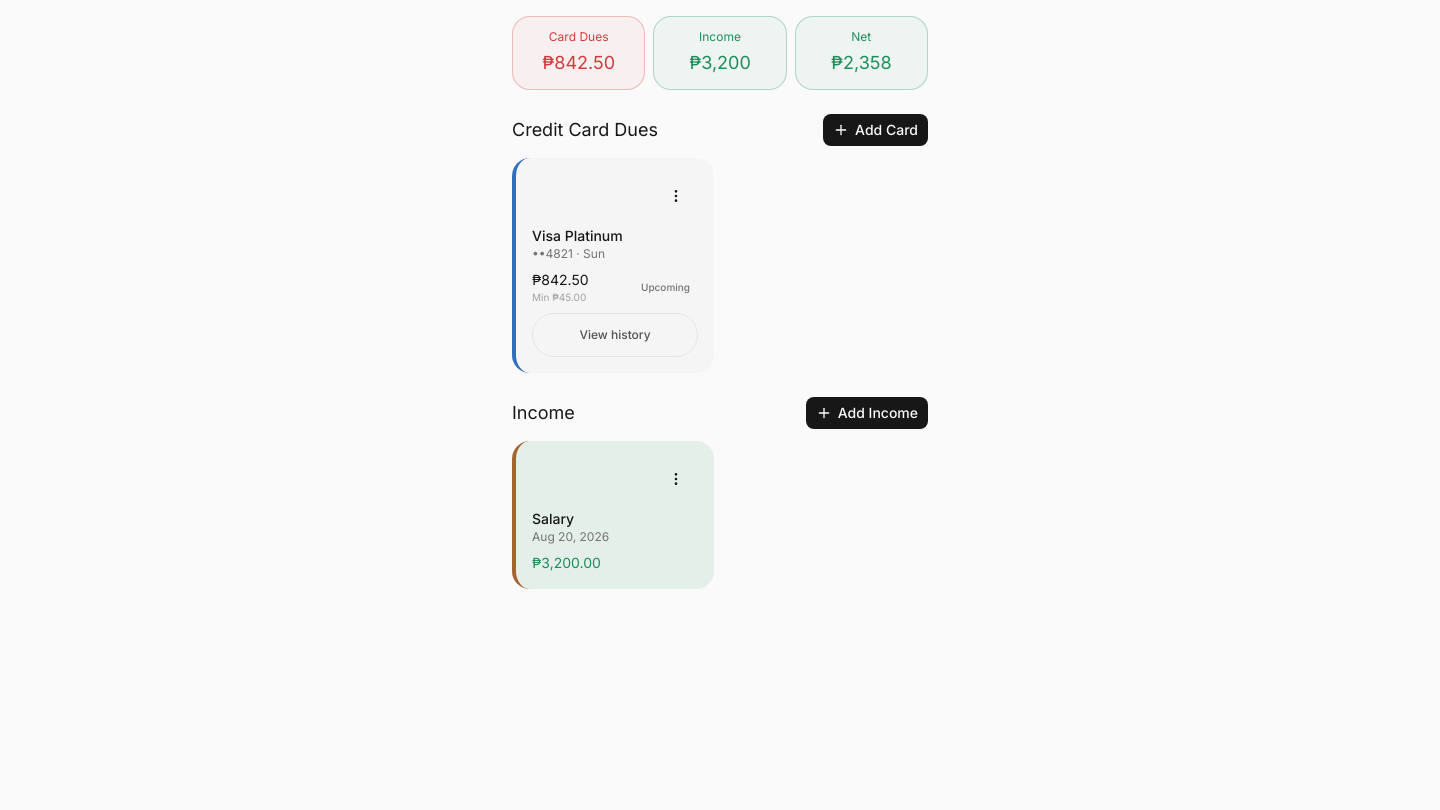
Test: AccountsPage › opens the edit form pre-filled when a card row Edit is chosen from its actions menu
Click the button named "actions for visa platinum": (676,196) [654, 174, 698, 218]
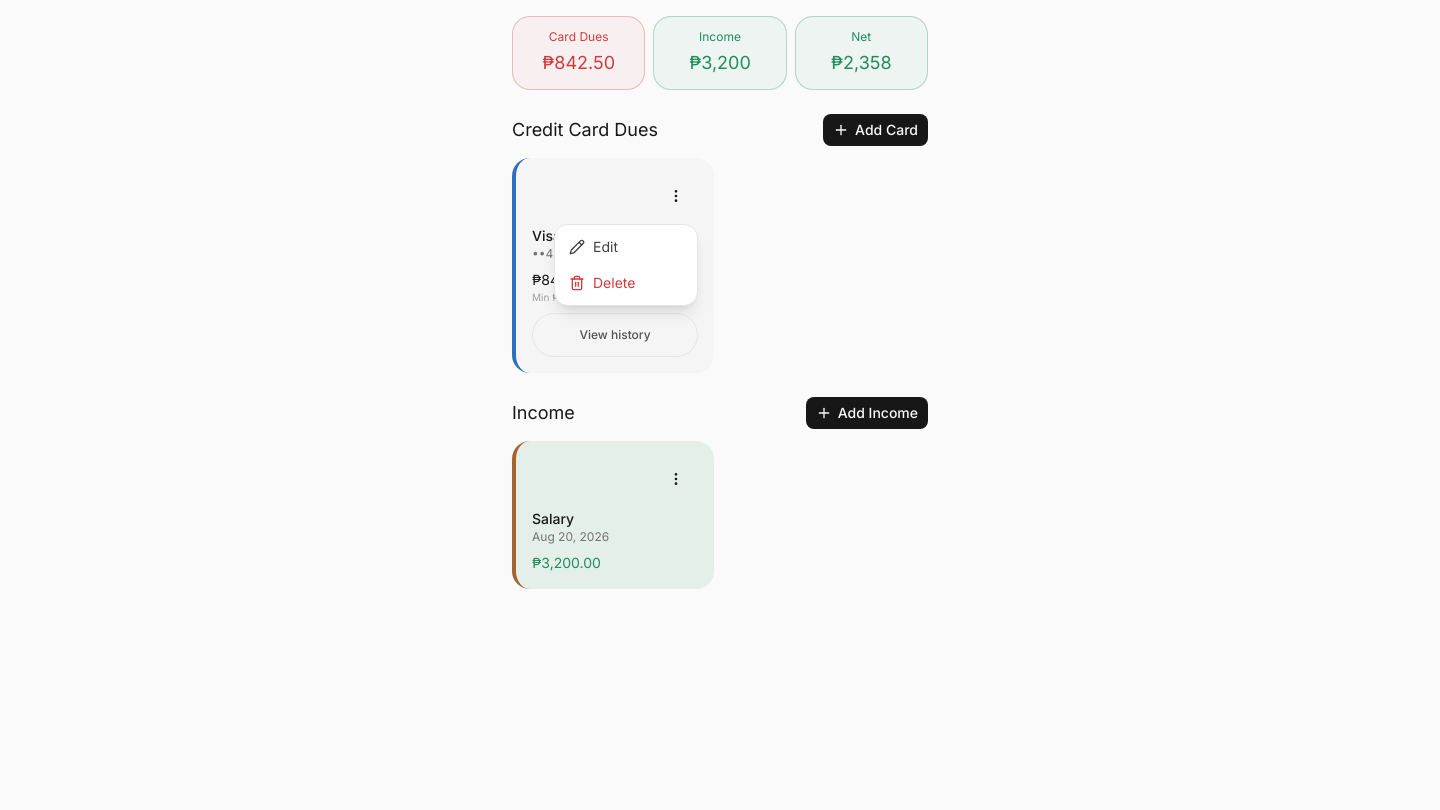
Click the menu item "Edit": (594,246) [569, 238, 618, 255]
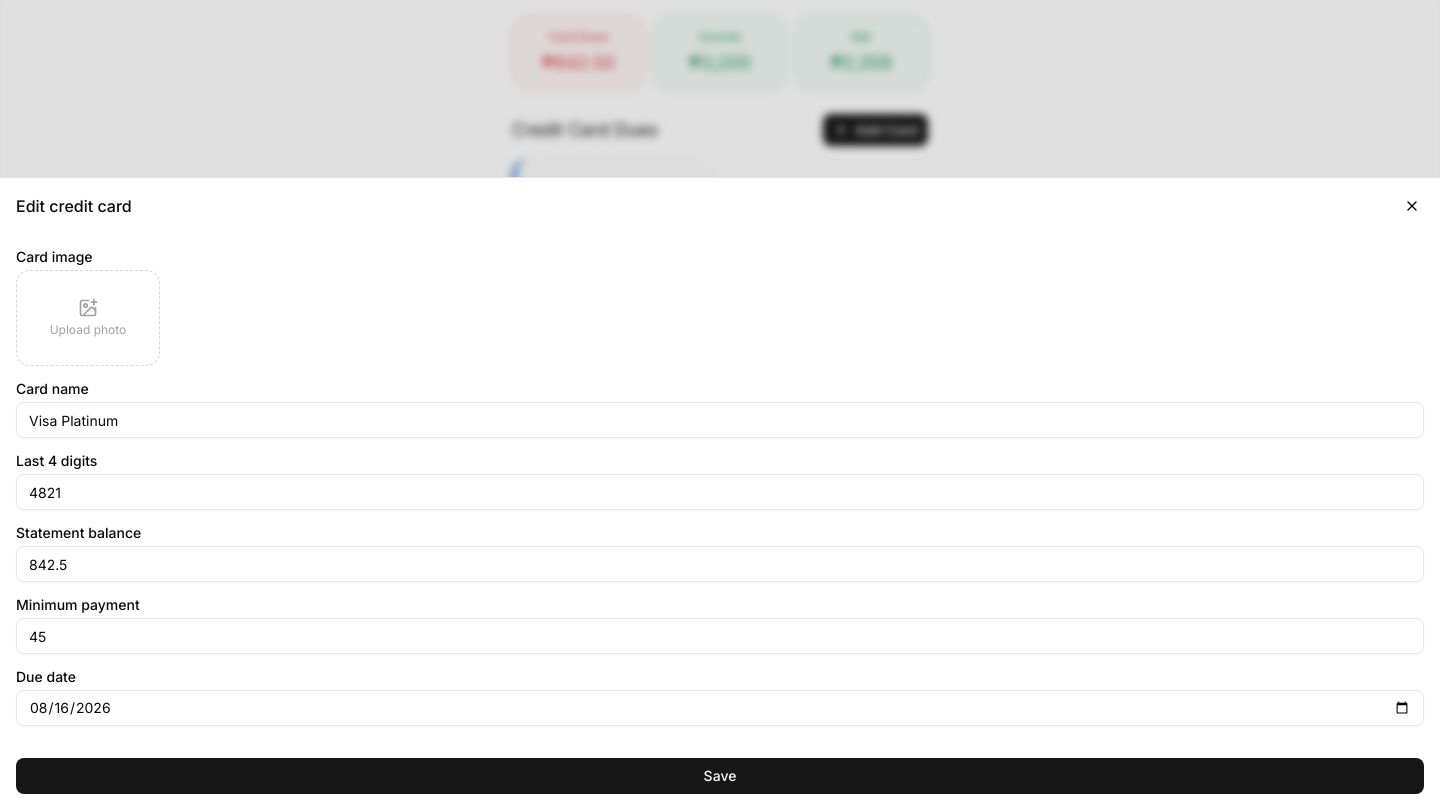
Expected: the heading "Edit credit card" is shown, [16, 196, 132, 216]
Expected: the field labelled "Card name" holds "Visa Platinum", [16, 402, 1424, 438]
